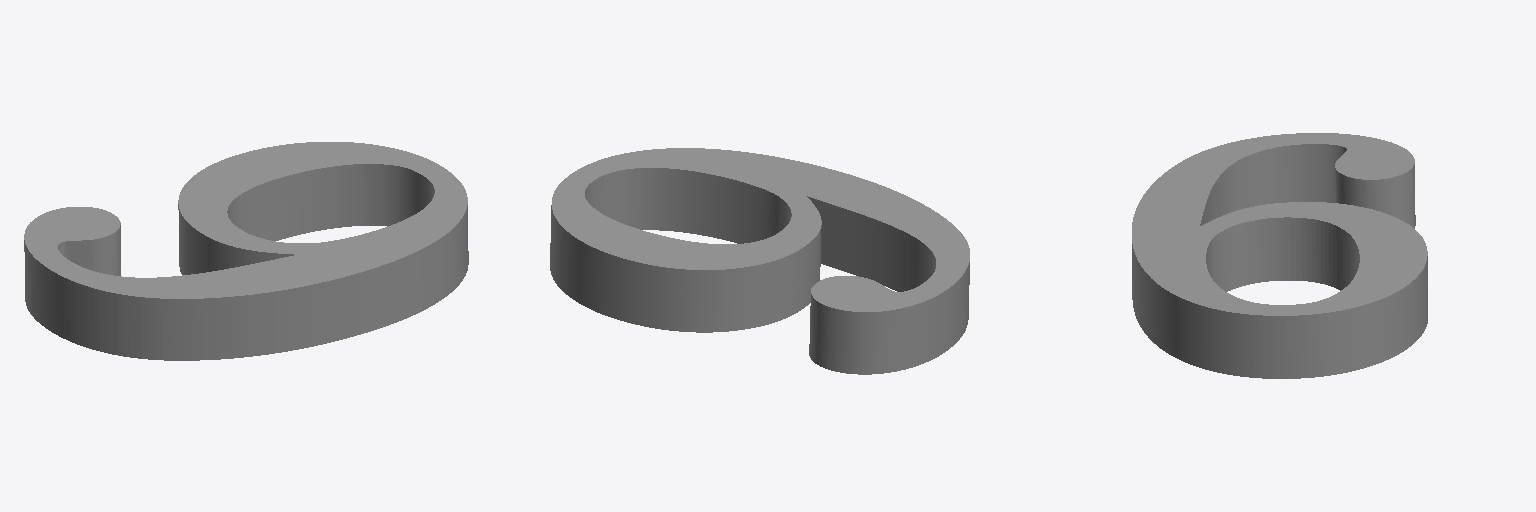
Rendered from number9.obj.
The picture shows the model from 3 angles: view 1: azimuth 30°, elevation 25°; view 2: azimuth 150°, elevation 25°; view 3: azimuth 270°, elevation 25°; orthographic projection.
Visible parts, largest first — view 1: Text.031; view 2: Text.031; view 3: Text.031.
Part boxes in pixels (bbox=[...]): Text.031: bbox=[24, 142, 468, 360]; Text.031: bbox=[550, 148, 969, 374]; Text.031: bbox=[1132, 133, 1427, 378].
Bounding box in the file's own units: 1.08 × 0.1872 × 0.7035.